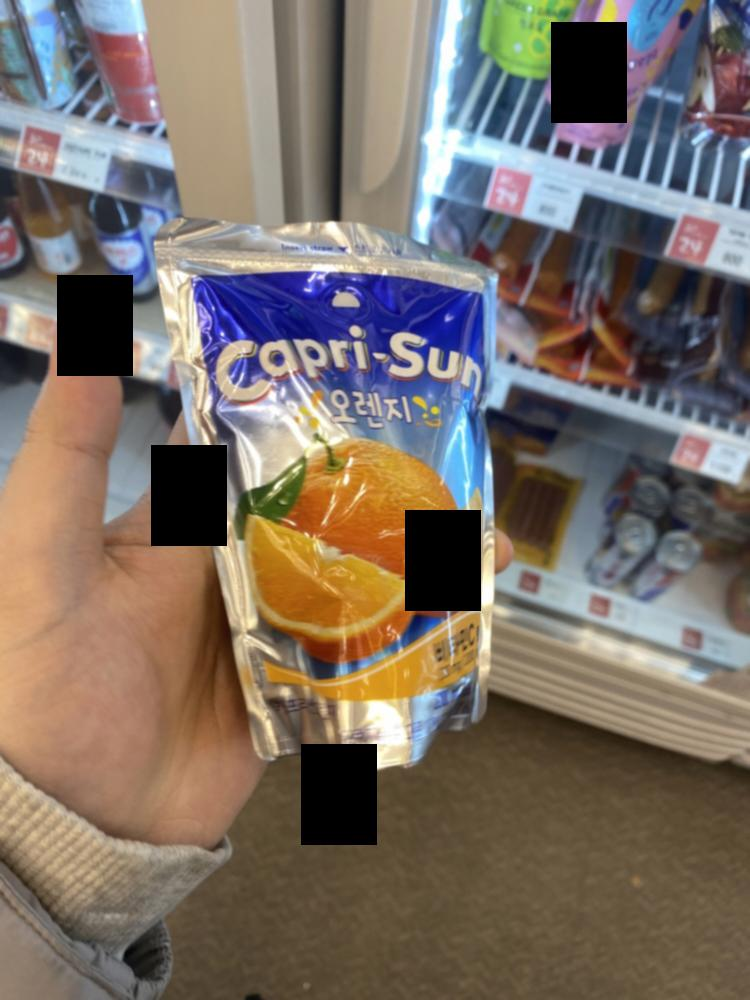cafrisun: (126, 223, 559, 774)
